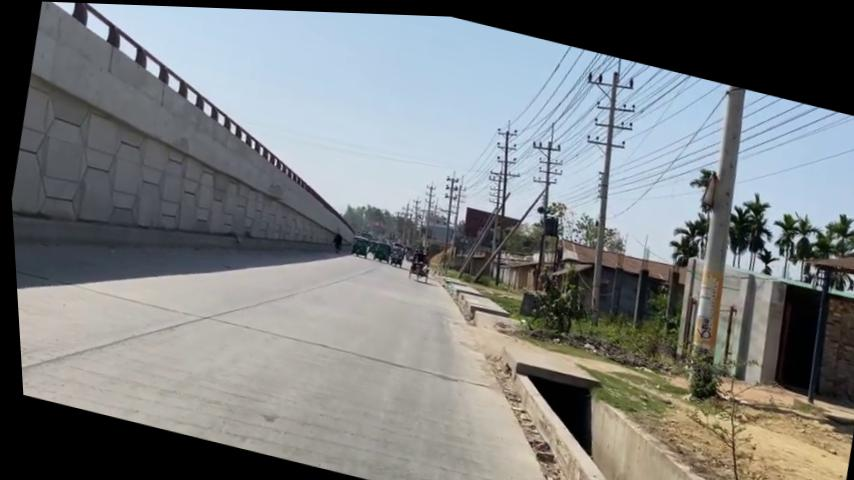Fallen-tree: (0, 0, 396, 289)
Fence: (326, 227, 341, 251)
Garbage: (535, 58, 652, 323), (665, 76, 766, 362)
Garbage-bin: (497, 355, 603, 453)
Rickshaw: (402, 253, 428, 281)
